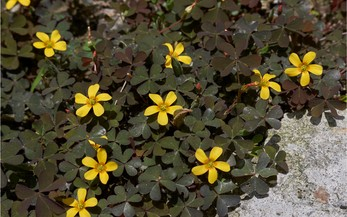oxalis: (17, 28, 300, 215)
